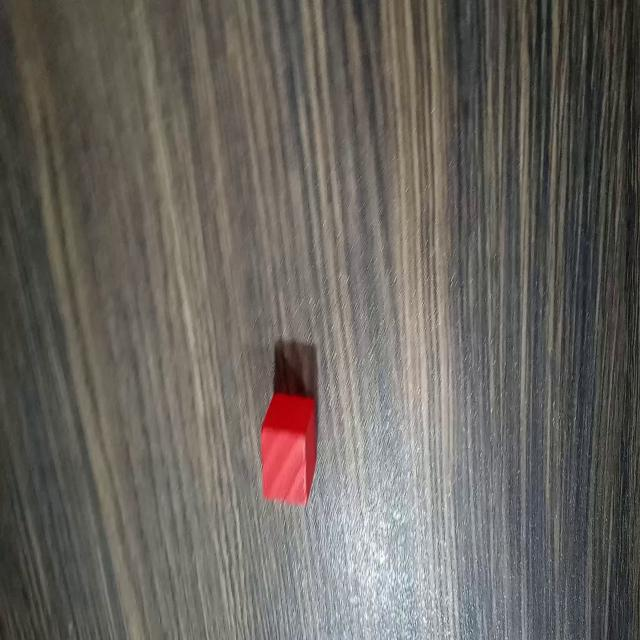cube: (257, 388, 318, 509)
